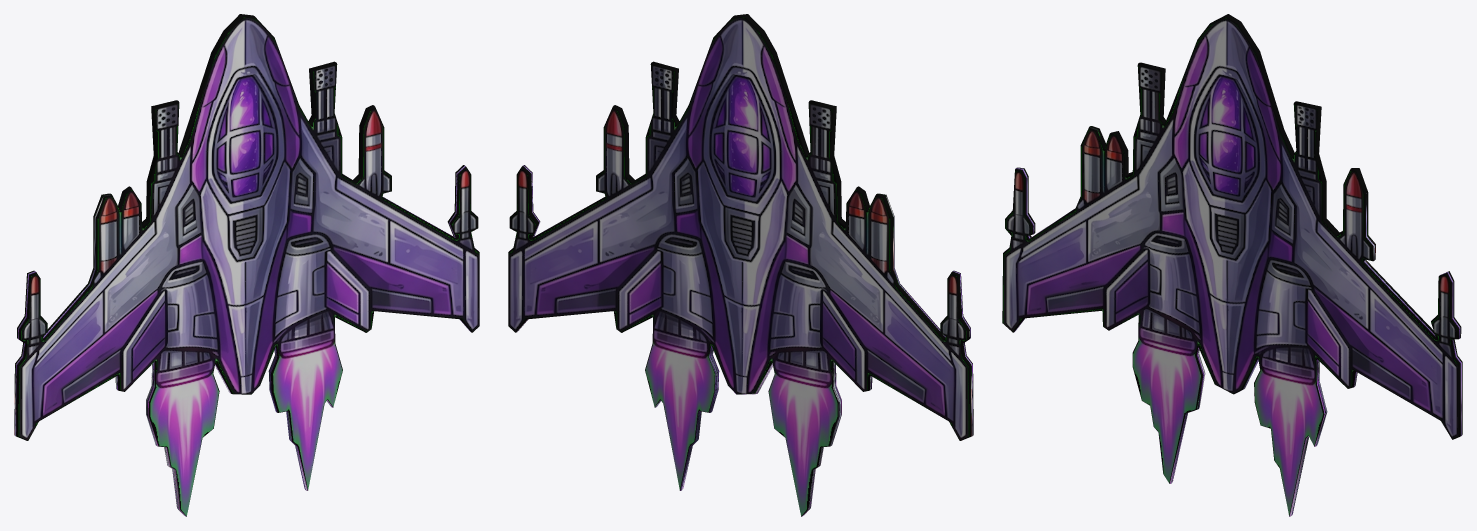
The model's file is Ship4.glb.
3 views of the same model, side by side, from view 1: azimuth 30°, elevation 25°; view 2: azimuth 150°, elevation 25°; view 3: azimuth 330°, elevation 25° (orthographic).
Size of the model in its own units: 0.6956 by 0.7055 by 0.01.
Materials: 2 (2 with a texture image).
